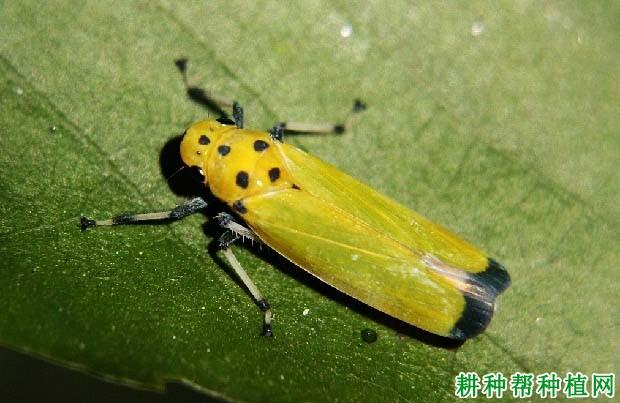Cicadellidae: (81, 60, 513, 346)
